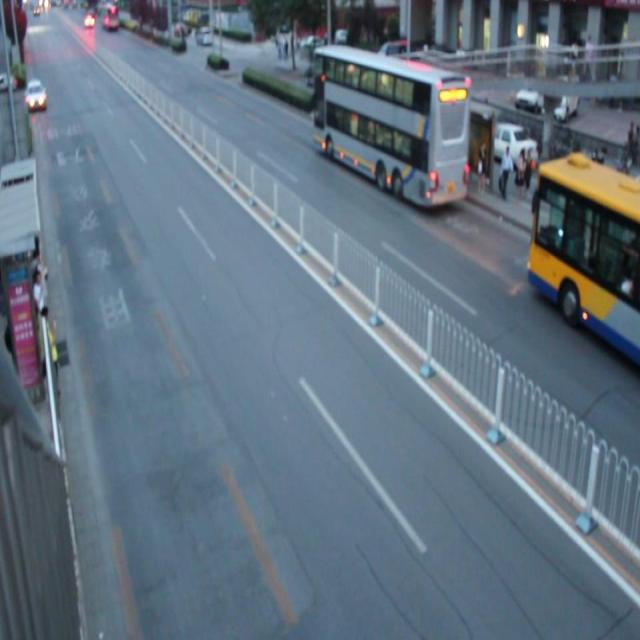van: (311, 45, 469, 212), (525, 158, 640, 363)
